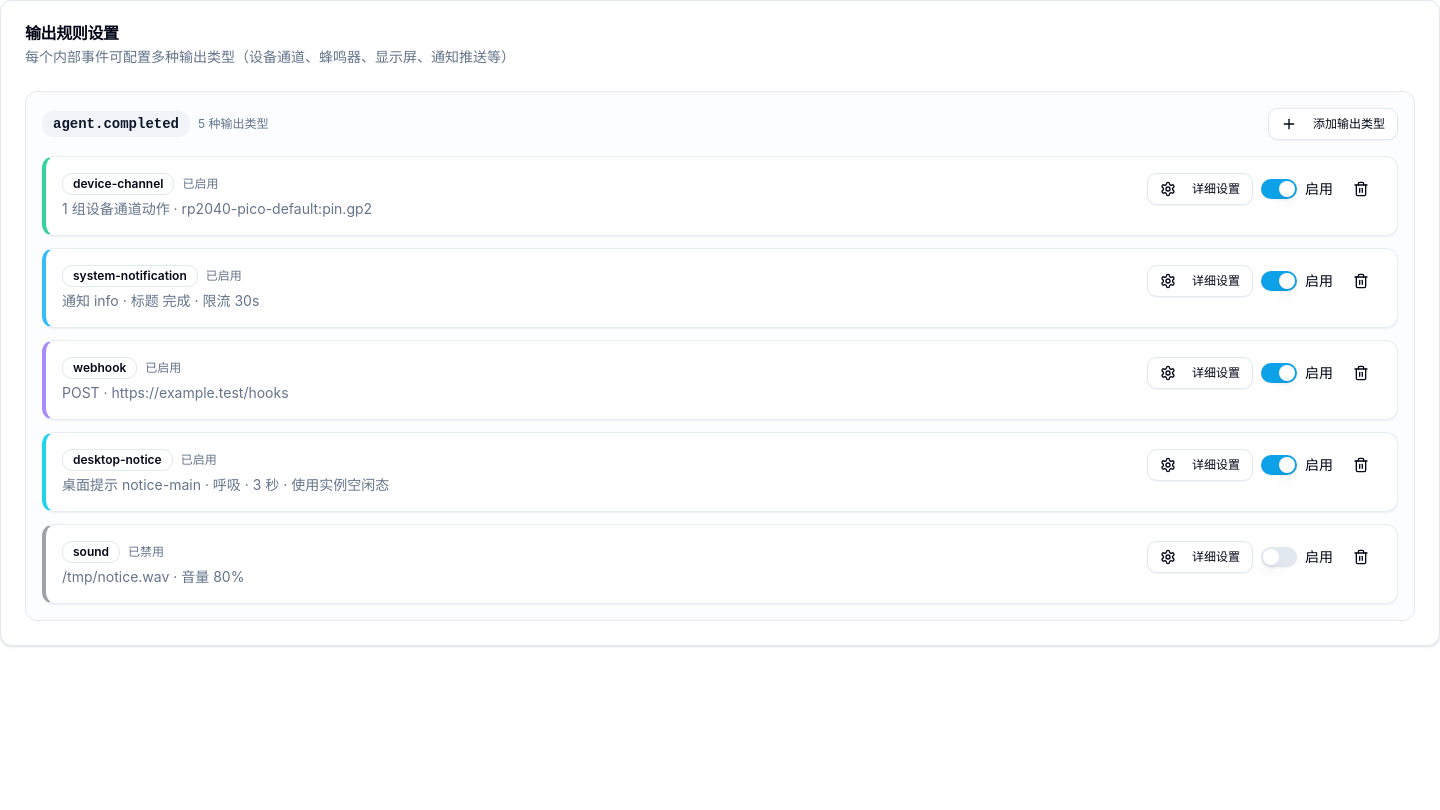
Test: HardwareRulePanel › prevents enabling output when five outputs are already enabled
Click the switch named "启用" in the row of "已禁用" at (1279, 557), box [1261,547,1297,567]
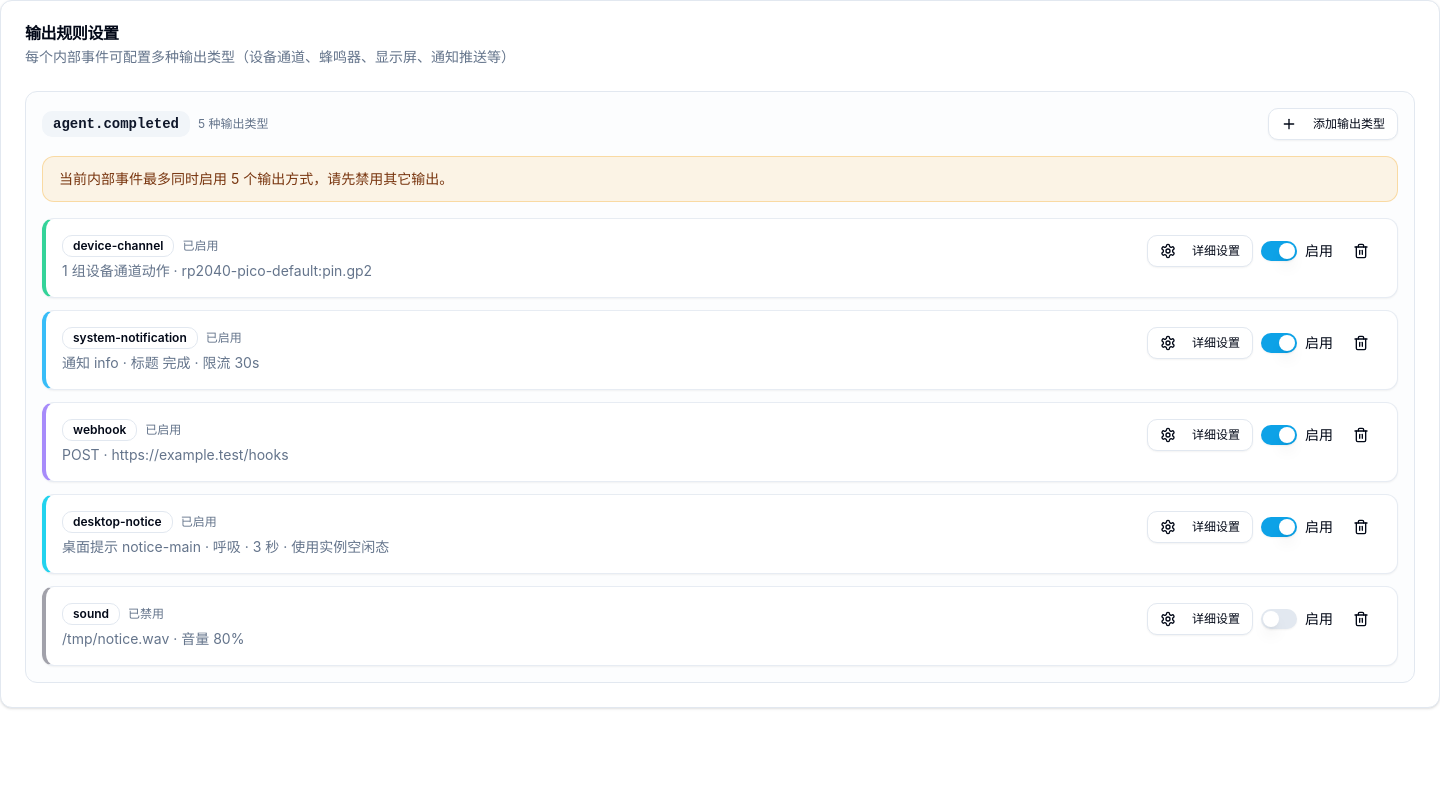
Expected: the switch named "启用" in the row of "已禁用" is not checked, [1261,609,1297,629]
Result: the text "当前内部事件最多同时启用 5 个输出方式，请先禁用其它输出。" is shown at [59,170,453,187]
